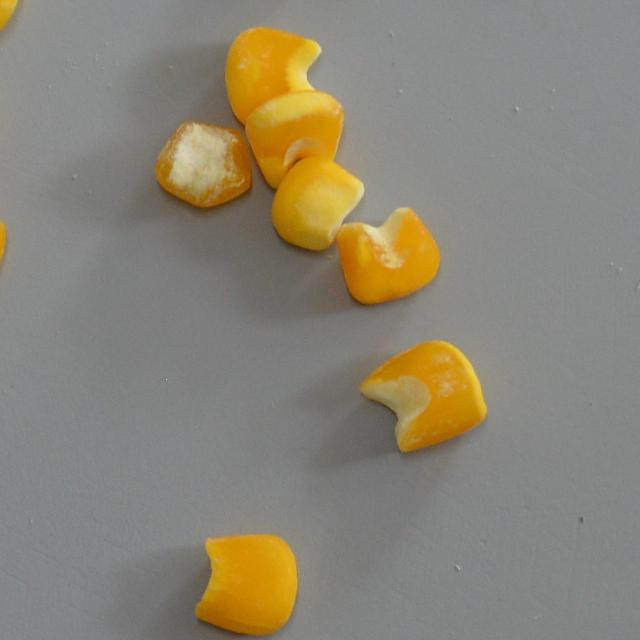no_canjicado: (195, 532, 300, 637), (243, 90, 344, 189), (337, 206, 439, 302), (223, 25, 320, 119), (268, 158, 365, 250), (0, 0, 24, 42)
pelicula: (358, 338, 486, 454), (154, 120, 252, 208)
